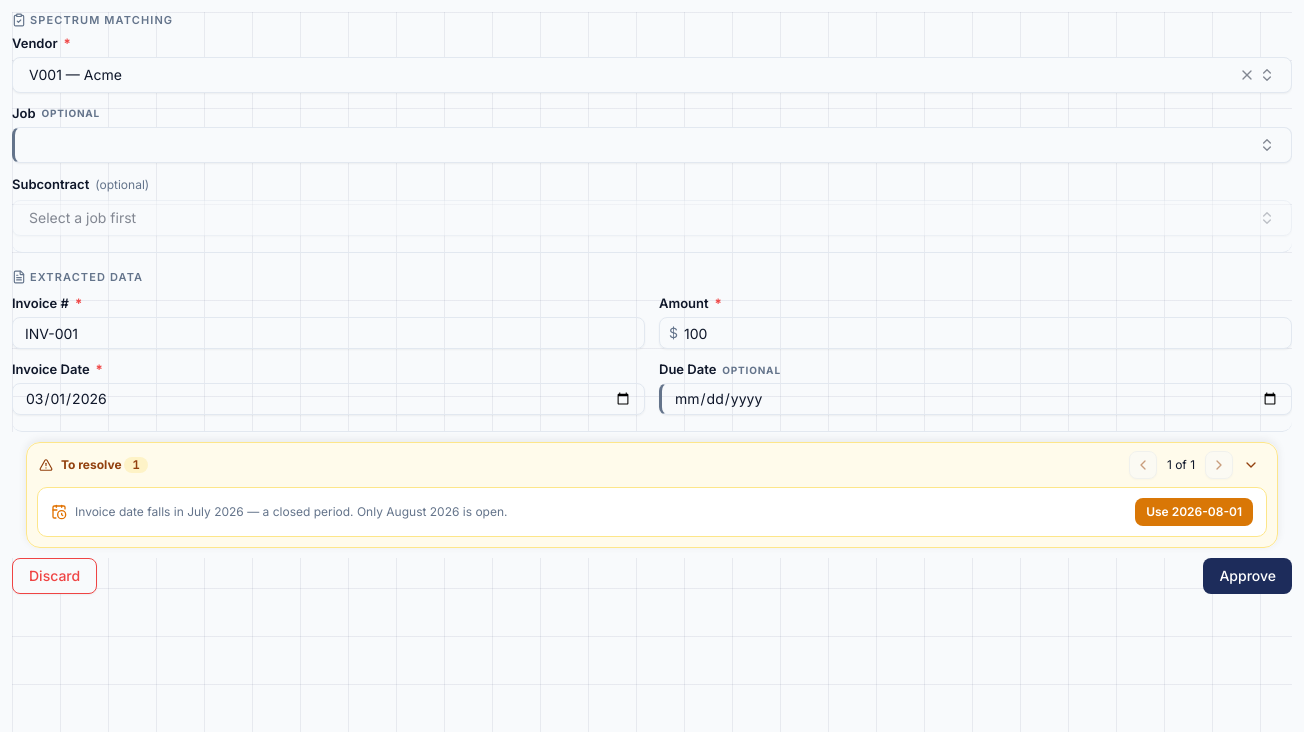
Test: closed-period recovery refetch › keeps the active detail mounted and applies the canonical PATCH date
The width and height of the screenshot is (1304, 732).
Check: the date field showing "2026-03-01" is shown, box [12,383,645,415]
What coordinates should you click on to do the following:
click the button "Use 2026-08-01"
I would click on:
 (1194, 512)
Its box is [1135,498,1253,526].
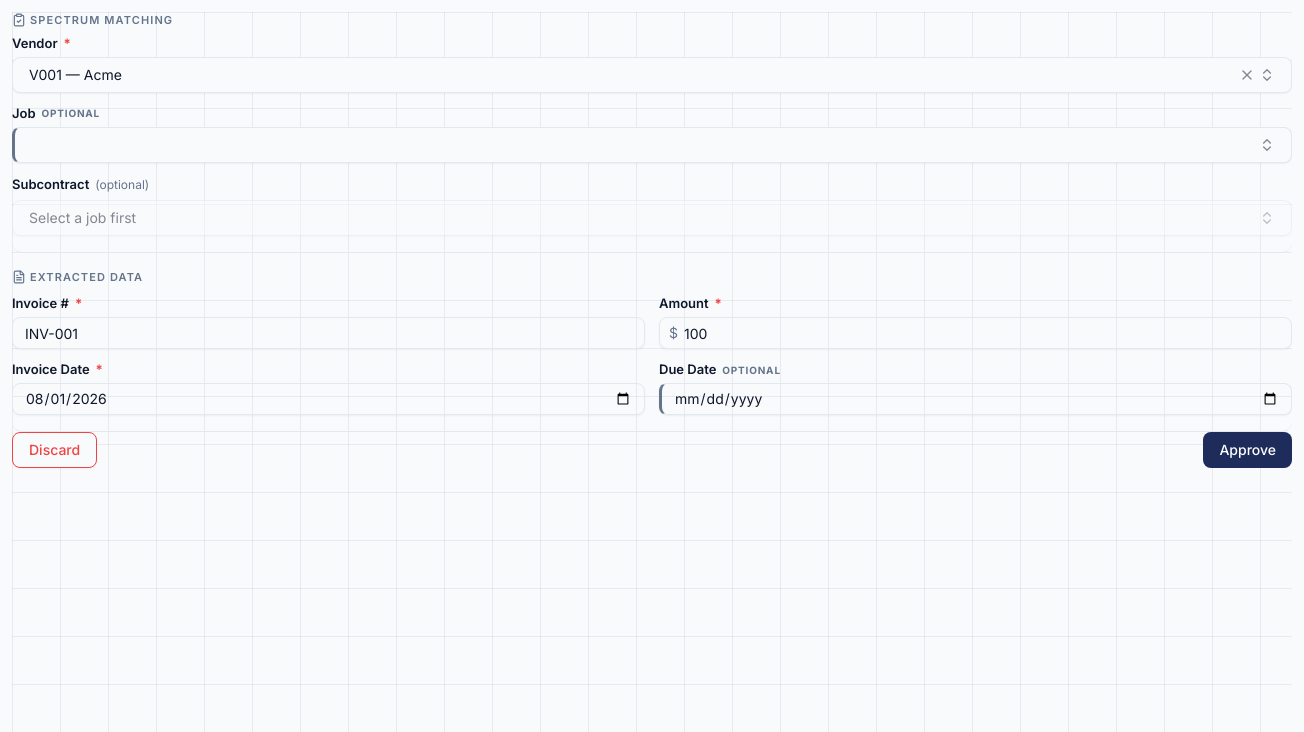
Check: the date field showing "2026-08-01" is shown, box [12,383,645,415]
Check: the button "Use 2026-08-01" is gone
